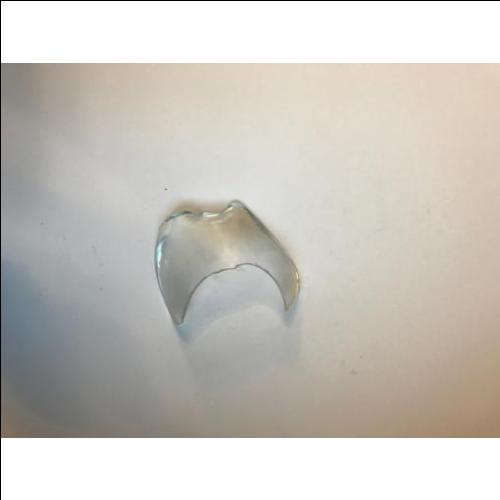glass: (163, 199, 300, 308)
